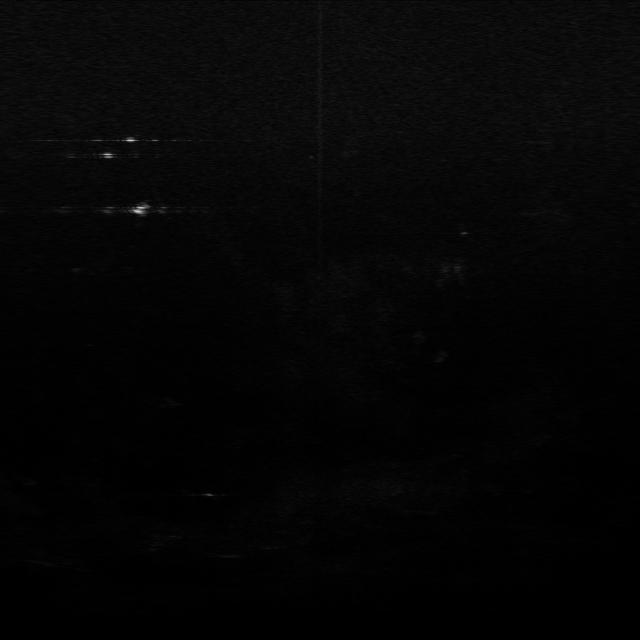rov: (120, 200, 160, 220)
